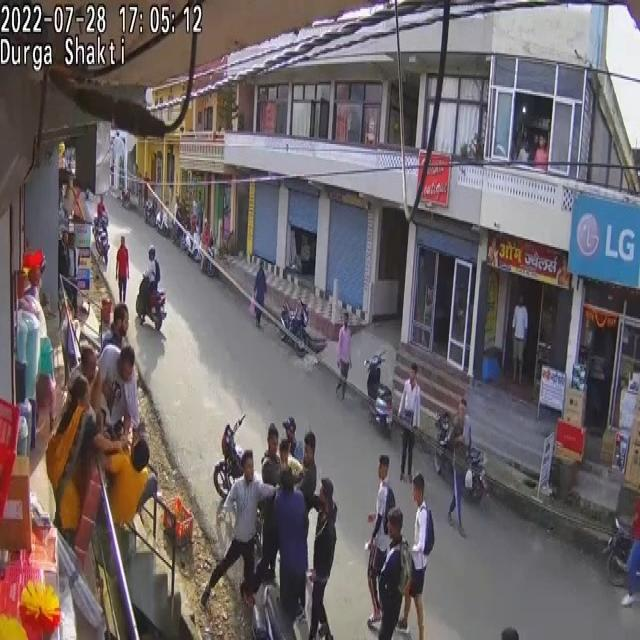fight: (209, 413, 337, 640), (56, 382, 116, 546), (118, 423, 167, 567), (106, 422, 158, 516), (218, 490, 263, 580)
non-fight: (269, 468, 309, 635), (400, 474, 432, 640), (368, 452, 398, 622), (306, 480, 336, 640), (94, 339, 138, 438), (256, 458, 284, 590), (446, 398, 472, 531), (398, 364, 421, 481), (294, 432, 318, 520), (58, 228, 77, 314), (334, 312, 352, 398), (511, 295, 528, 384), (142, 245, 161, 321), (261, 424, 282, 489), (253, 261, 267, 327), (116, 236, 130, 302)
